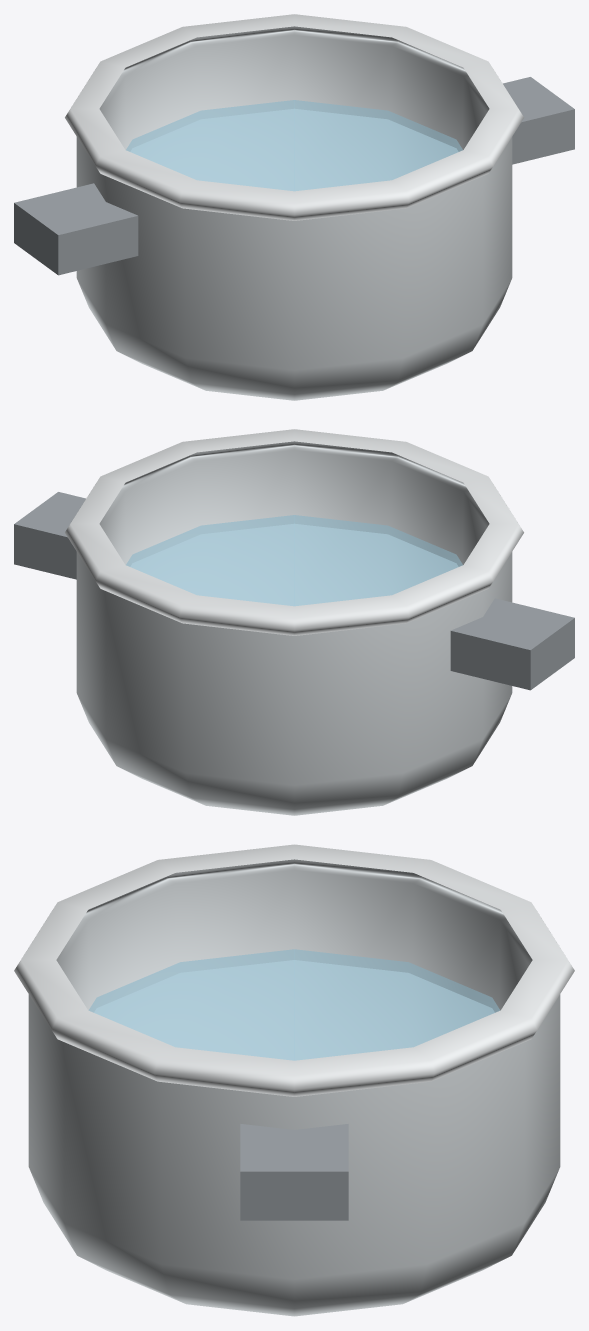
The model's file is pot.glb.
The picture shows the model from 3 angles, top to bottom: view 1: azimuth 30°, elevation 25°; view 2: azimuth 150°, elevation 25°; view 3: azimuth 270°, elevation 25°; orthographic projection. The views are drawn at different scales.
Visible parts, largest first — view 1: pot_body, pot_rim, water, handle_-1, handle_1; view 2: pot_body, pot_rim, water, handle_-1, handle_1; view 3: pot_body, pot_rim, water, handle_1.
Boxes of the visible parts, x1=… form: pot_body: x1=76, y1=26, x2=512, y2=400; pot_rim: x1=65, y1=14, x2=523, y2=220; water: x1=126, y1=100, x2=462, y2=191; handle_-1: x1=14, y1=183, x2=138, y2=275; handle_1: x1=503, y1=77, x2=574, y2=164; pot_body: x1=76, y1=441, x2=512, y2=815; pot_rim: x1=65, y1=429, x2=523, y2=635; water: x1=126, y1=515, x2=462, y2=606; handle_-1: x1=450, y1=598, x2=574, y2=690; handle_1: x1=14, y1=492, x2=85, y2=579; pot_body: x1=28, y1=859, x2=560, y2=1316; pot_rim: x1=14, y1=844, x2=574, y2=1096; water: x1=88, y1=949, x2=500, y2=1060; handle_1: x1=240, y1=1124, x2=348, y2=1220.
Size of the model in its own units: 0.74 by 0.297 by 0.57.
